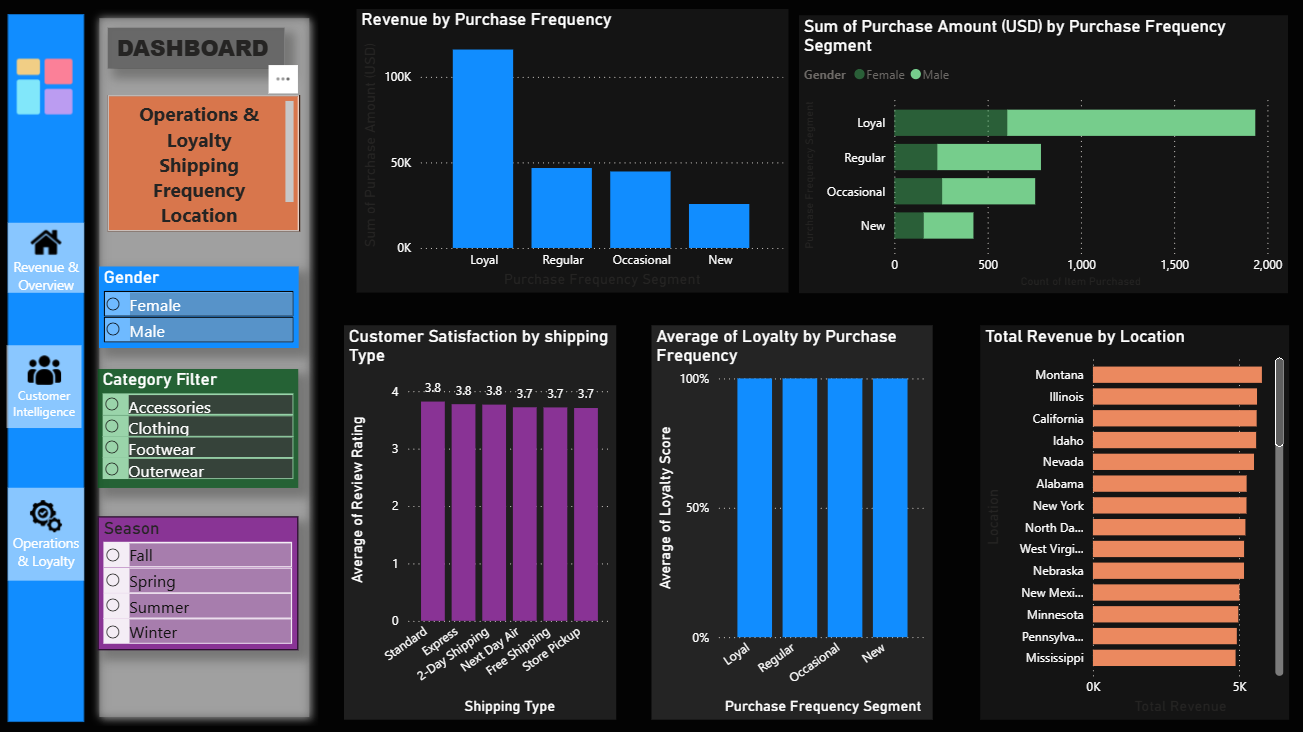

What the dashboard file says about the page in this screenshot:
{"tool":"powerbi","page":{"name":"Page 3","canvas":[1280,720],"ordinal":2},"visuals":[{"type":"shape","box":[8.8,15,75,695],"z":0},{"type":"shape","box":[90,10,224,704],"z":1000},{"type":"clusteredColumnChart","title":"Revenue by Purchase Frequency ","fields":{"Category":["shopping.Purchase Frequency Segment"],"Y":["Sum(shopping.Purchase Amount (USD))"]},"box":[351.4,10,424.3,278.6],"z":2000},{"type":"barChart","title":" Sum of Purchase Amount (USD) by Purchase Frequency Segment","fields":{"Series":["shopping.Gender"],"Category":["shopping.Purchase Frequency Segment"],"Y":["CountNonNull(shopping.Item Purchased)"]},"box":[785.7,15.7,480,272.9],"z":3000},{"type":"columnChart","title":"Customer Satisfaction by shipping Type","fields":{"Category":["shopping.Shipping Type"],"Y":["Avg(shopping.Review Rating)"]},"box":[338.6,320,267.1,387.1],"z":4000},{"type":"barChart","fields":{"Category":["shopping.Location"],"Y":["shopping.Total Revenue"]},"box":[962.9,320,302.9,387.1],"z":5000},{"type":"hundredPercentStackedColumnChart","title":"Average of Loyalty   by Purchase Frequency ","fields":{"Category":["shopping.Purchase Frequency Segment"],"Y":["Avg(shopping.Loyalty Score)"]},"box":[640,320,275.7,387.1],"z":6000},{"type":"listSlicer","title":"Category Filter","fields":{"Values":["shopping.Category"]},"box":[97.1,362.9,197.1,117.1],"z":7000},{"type":"listSlicer","fields":{"Values":["shopping.Gender"]},"box":[98.2,262.7,196.4,80],"z":8000},{"type":"listSlicer","fields":{"Values":["shopping.Season"]},"box":[97.1,508.6,197.1,131.4],"z":9000},{"type":"actionButton","box":[8.8,220,75,68.8],"z":10000},{"type":"actionButton","box":[7.5,340,73.8,81.2],"z":11000},{"type":"actionButton","box":[8.8,480,75,91.2],"z":11001},{"type":"actionButton","box":[12.5,47.5,65,76.2],"z":11002},{"type":"textbox","box":[106.2,28.8,173.8,40],"z":11003},{"type":"textbox","box":[106.2,95,188.8,133.8],"z":11004}]}

Visuals, with their boxes on the page's 1280x720 design canvas (x1, y1, x2, y2). These are canvas units, not pixel positions in the 1303x732 screenshot, which may show the page scaled, cropped or inside an application window:
shape: bbox(9, 15, 84, 710)
shape: bbox(90, 10, 314, 714)
"Revenue by Purchase Frequency " clusteredColumnChart: bbox(351, 10, 776, 289)
" Sum of Purchase Amount (USD) by Purchase Frequency Segment" barChart: bbox(786, 16, 1266, 289)
"Customer Satisfaction by shipping Type" columnChart: bbox(339, 320, 606, 707)
barChart - shopping.Location x shopping.Total Revenue: bbox(963, 320, 1266, 707)
"Average of Loyalty   by Purchase Frequency " hundredPercentStackedColumnChart: bbox(640, 320, 916, 707)
"Category Filter" listSlicer: bbox(97, 363, 294, 480)
listSlicer - shopping.Gender: bbox(98, 263, 295, 343)
listSlicer - shopping.Season: bbox(97, 509, 294, 640)
actionButton: bbox(9, 220, 84, 289)
actionButton: bbox(8, 340, 81, 421)
actionButton: bbox(9, 480, 84, 571)
actionButton: bbox(12, 48, 78, 124)
textbox: bbox(106, 29, 280, 69)
textbox: bbox(106, 95, 295, 229)
